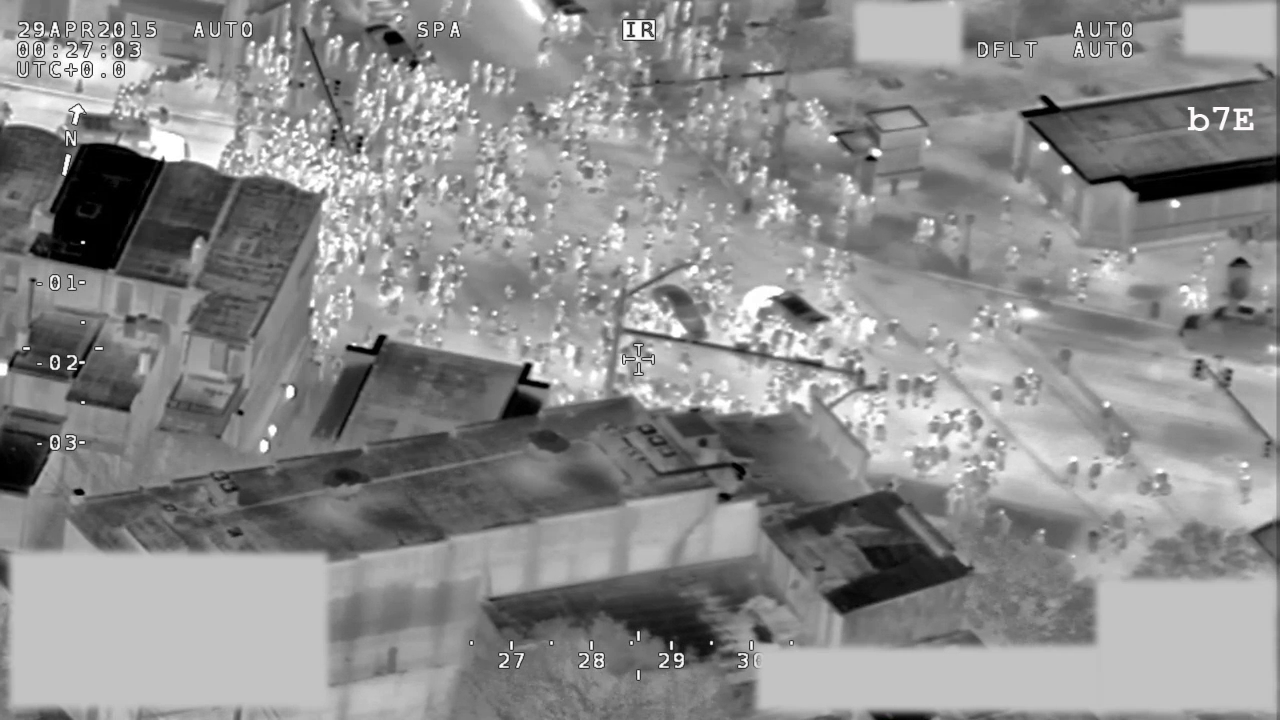vehicle: (58, 104, 192, 167), (735, 278, 840, 357), (1175, 298, 1280, 360), (650, 281, 714, 351), (361, 19, 427, 82)
